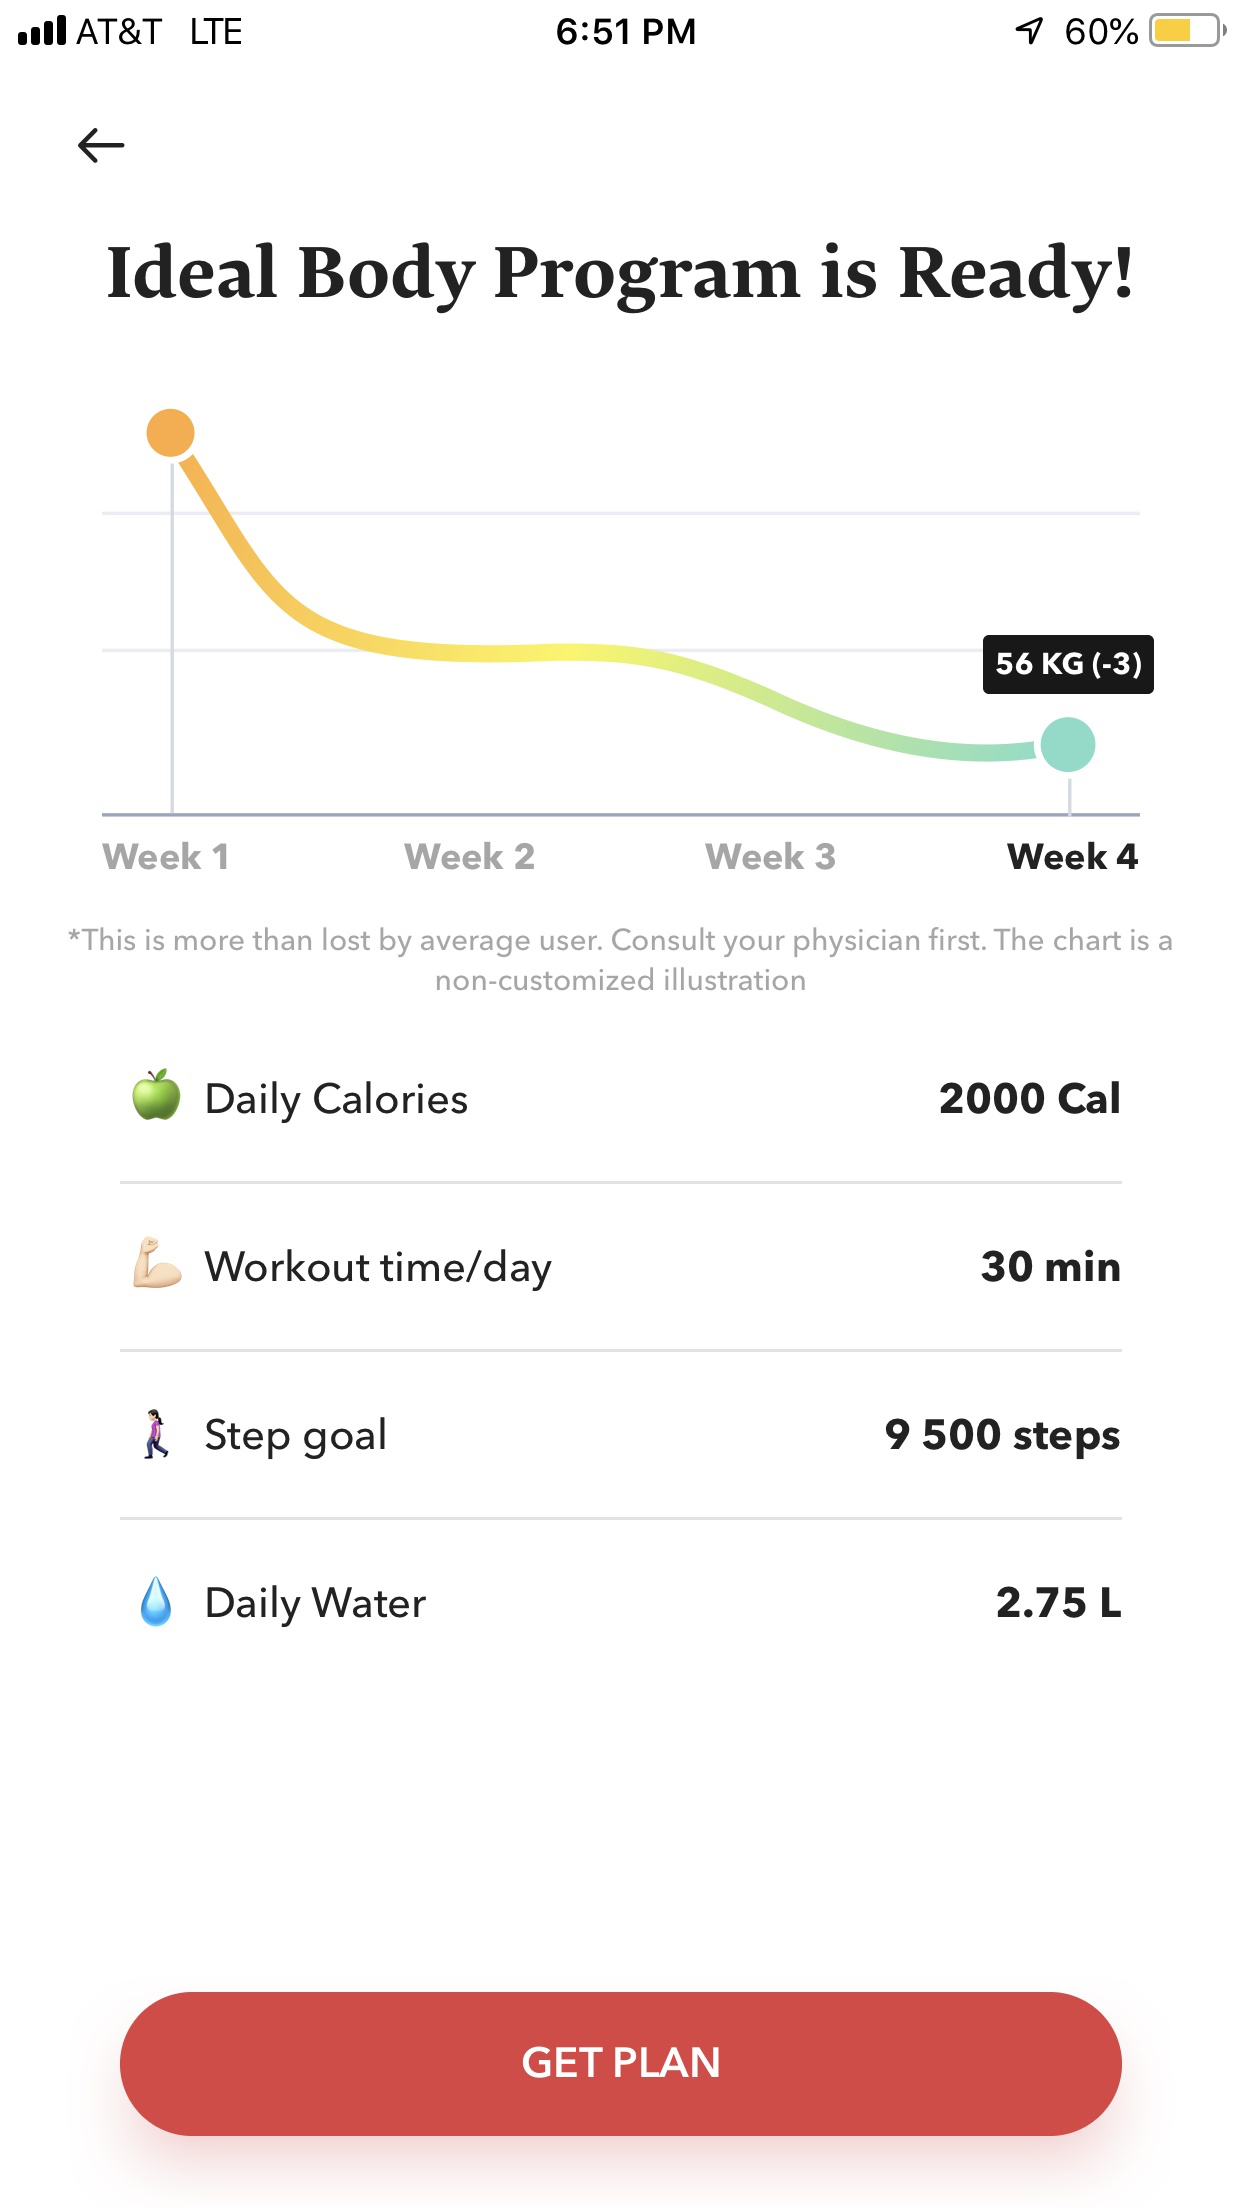Icon: (77, 129, 126, 165)
Image: (102, 406, 1156, 819), (133, 1236, 183, 1291), (132, 1068, 182, 1122), (141, 1576, 173, 1627), (144, 1407, 170, 1460)
Text: (108, 243, 1131, 315), (70, 927, 1174, 992), (205, 1248, 554, 1294), (206, 1081, 470, 1125), (886, 1418, 1121, 1460), (208, 1585, 428, 1629), (206, 1416, 387, 1460), (939, 1081, 1121, 1115), (981, 1250, 1121, 1283), (996, 1586, 1121, 1620), (704, 842, 836, 872), (1005, 842, 1139, 870), (403, 842, 535, 870), (102, 842, 227, 870)
TextButton: (120, 1991, 1124, 2137)
UpperTaskBar: (2, 2, 1242, 49)
